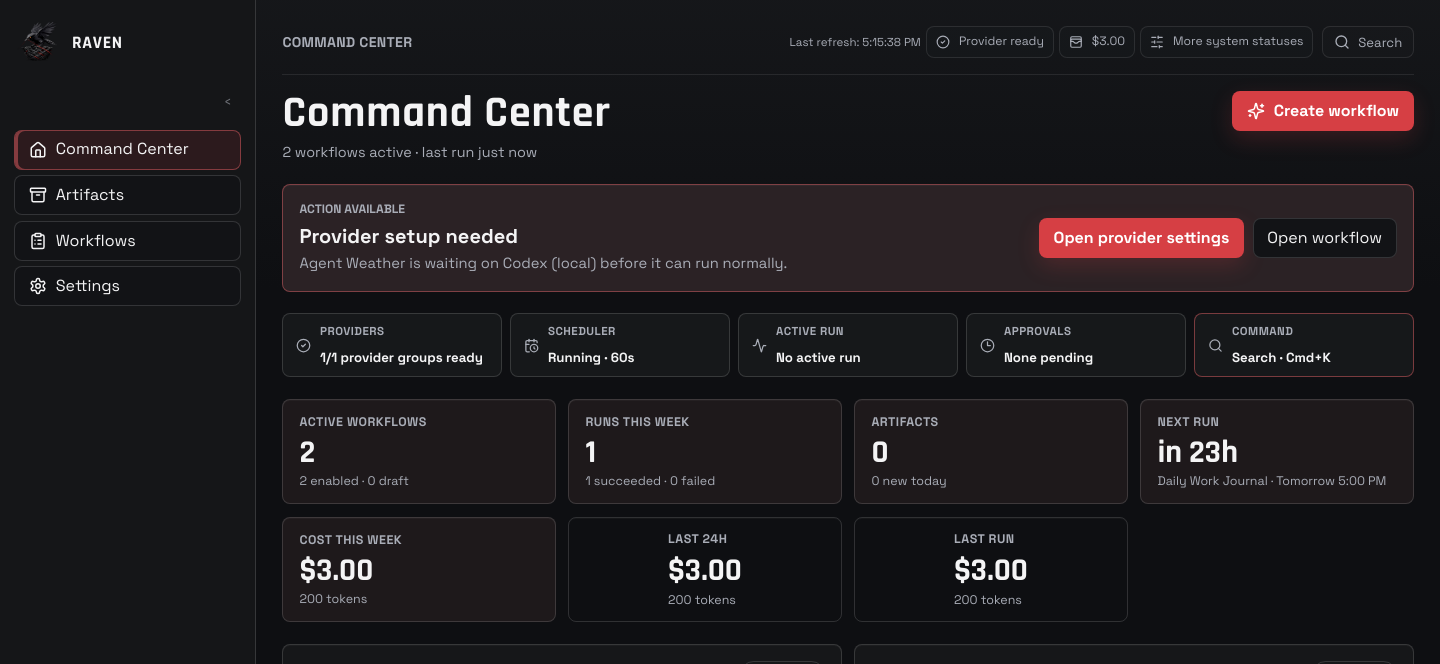
Test: Raven app shell › opens workflow detail in usage focus from a workflow cost bar
Click the button named "usage status" at (1097, 42), box x1=1059 y1=26 x2=1135 y2=58
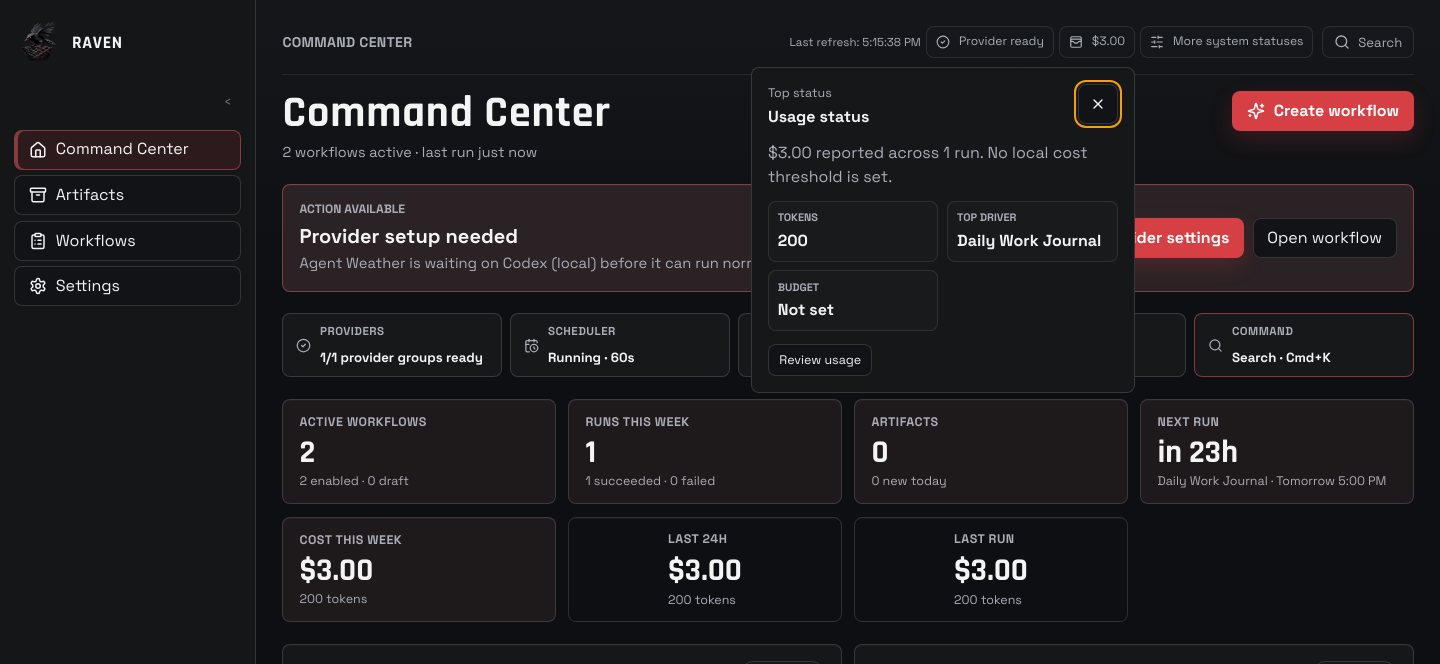
Click the button "Review usage" at (820, 360), box x1=768 y1=344 x2=872 y2=376
(page scrolled)
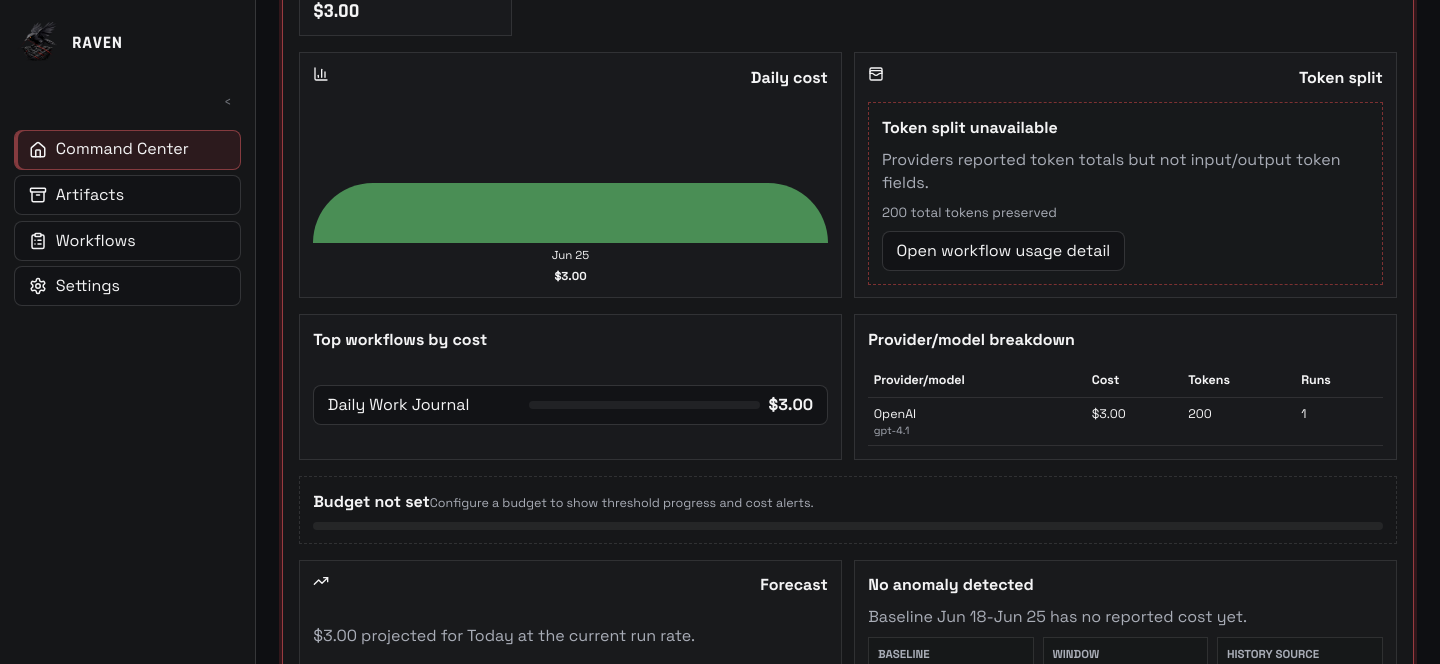
Check: the text "$3.00" below "Provider/model breakdown" is shown, box x1=768 y1=394 x2=813 y2=415
Click the button with aria-label "Open Daily Work Journal usage detail" at (570, 405), box x1=313 y1=385 x2=828 y2=425
(page scrolled)
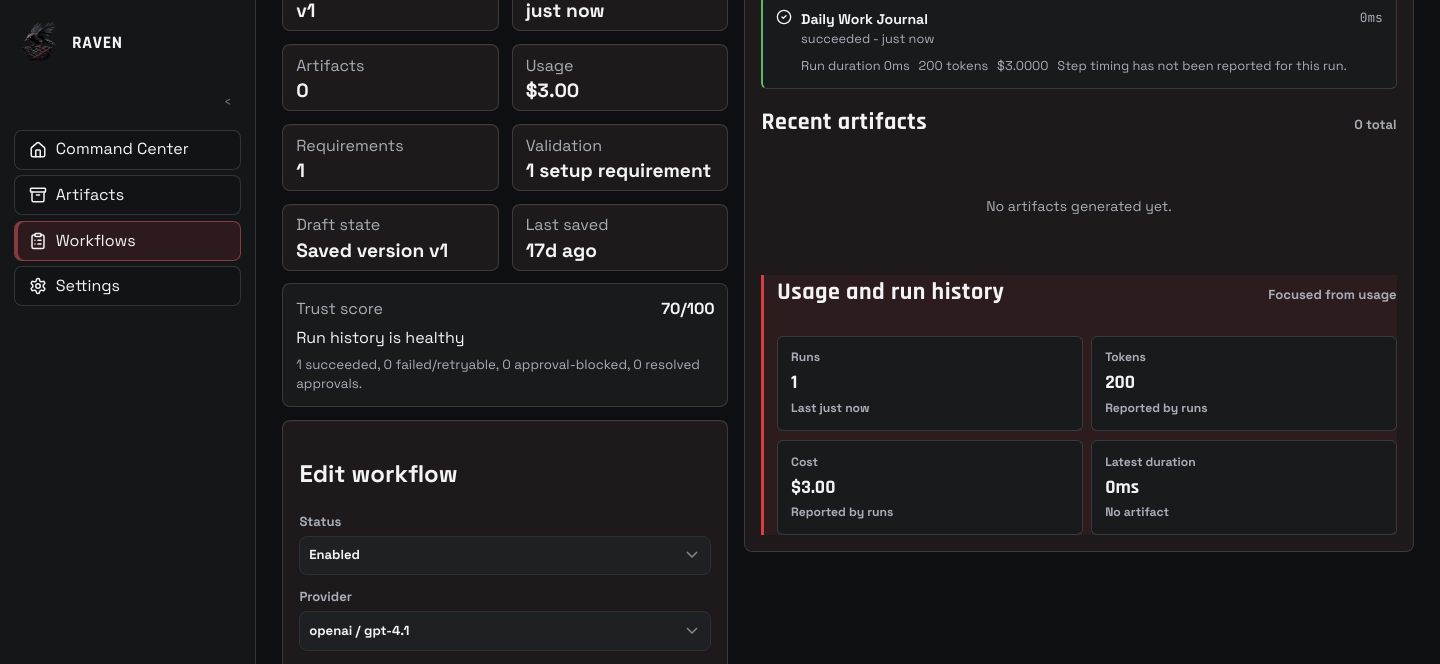
Check: the element named "Workflow usage and run history focus" shows "Usage and run history", box x1=777 y1=277 x2=1004 y2=307
